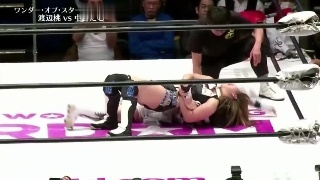falling: (69, 64, 257, 134)
